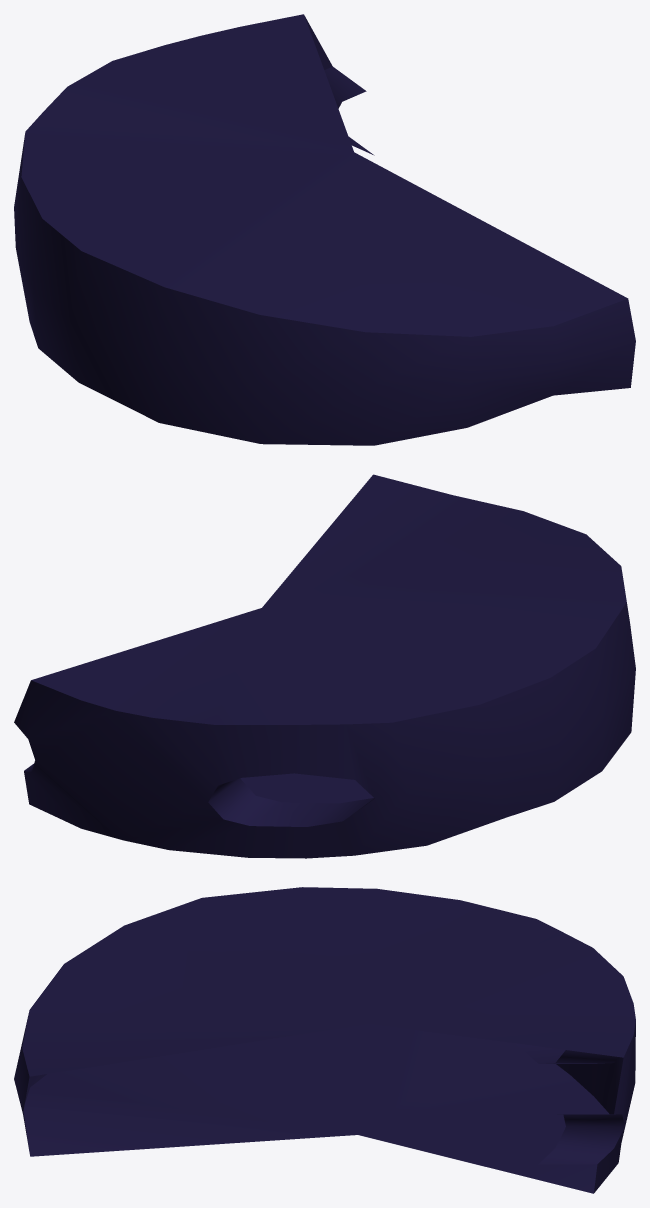
File: headband.fbx
3 renders of one model, top to bottom at view 1: azimuth 30°, elevation 25°; view 2: azimuth 150°, elevation 25°; view 3: azimuth 270°, elevation 25°, orthographic. The views are drawn at different scales.
Parts seen in each view (by area): view 1: Headband; view 2: Headband; view 3: Headband.
Boxes of the visible parts, x1,y1,x2,y2 form: Headband: (14,14,635,445); Headband: (14,474,635,858); Headband: (14,887,635,1193).
Bounding box in the file's own units: 42.6 × 13.83 × 59.97.
